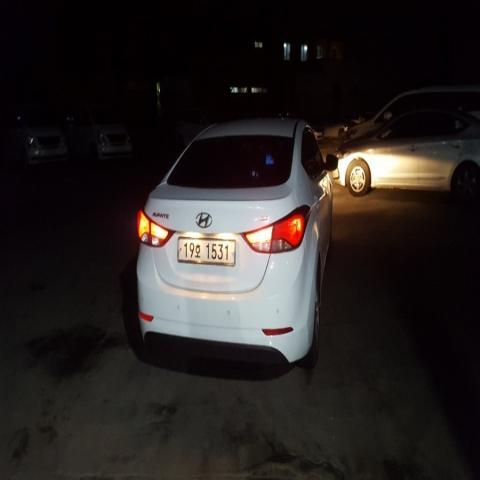LP: (174, 234, 238, 269)
